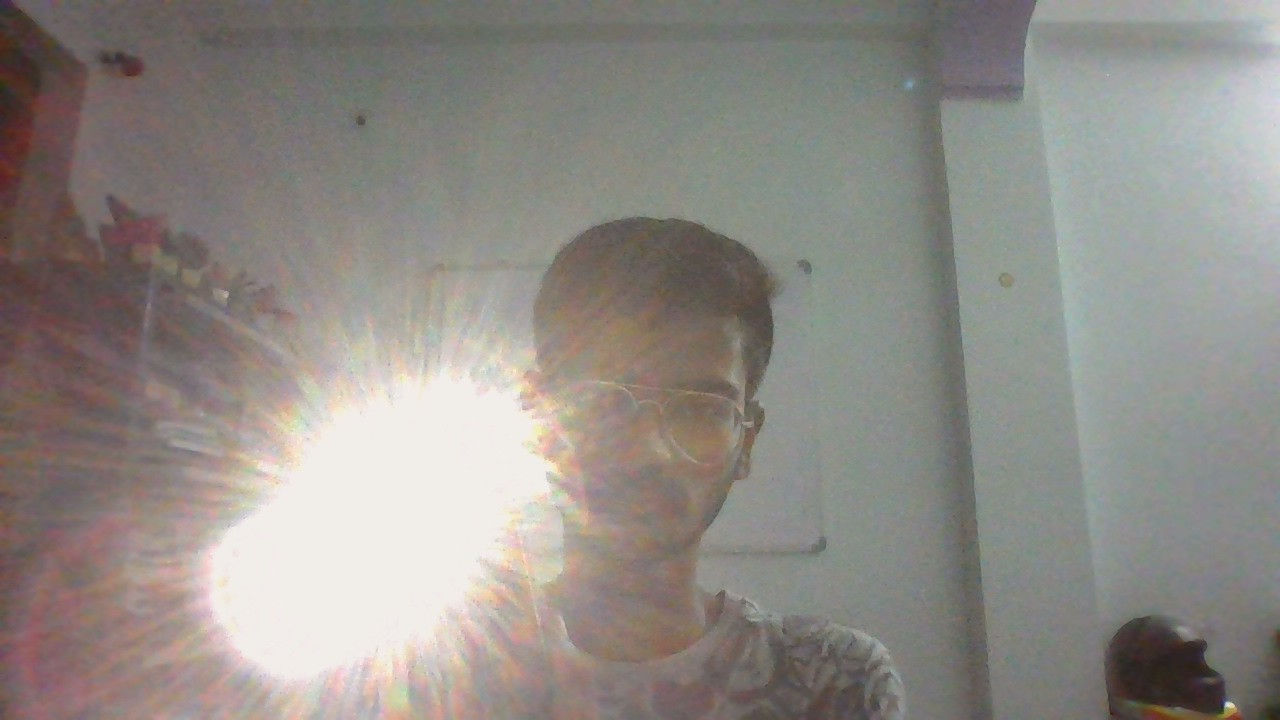Glare: (179, 369, 554, 669)
